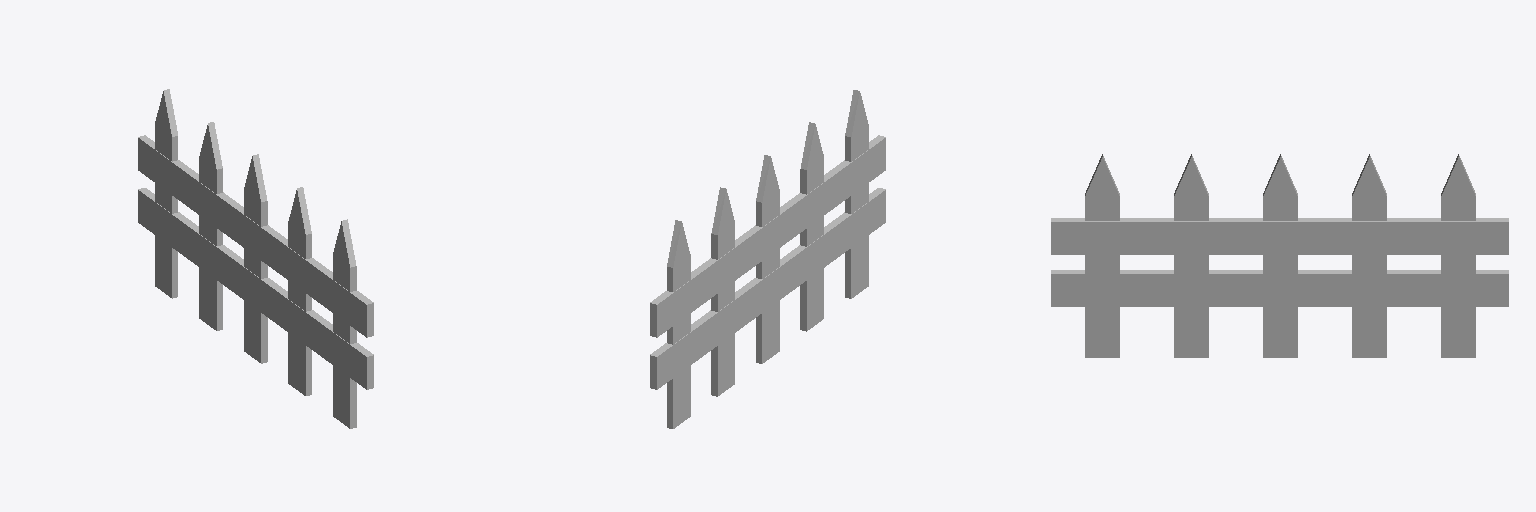
Rendered from Fence.obj.
3 views of the same model, side by side, from view 1: azimuth 30°, elevation 25°; view 2: azimuth 150°, elevation 25°; view 3: azimuth 270°, elevation 25° (orthographic).
Parts seen in each view (by area): view 1: Plane; view 2: Plane; view 3: Plane.
Part boxes in pixels (x1,y1,x2,y2): Plane: (138, 89, 373, 428); Plane: (650, 90, 885, 428); Plane: (1051, 154, 1508, 357).
Size of the model in its own units: 0.1 by 2.5 by 5.15.